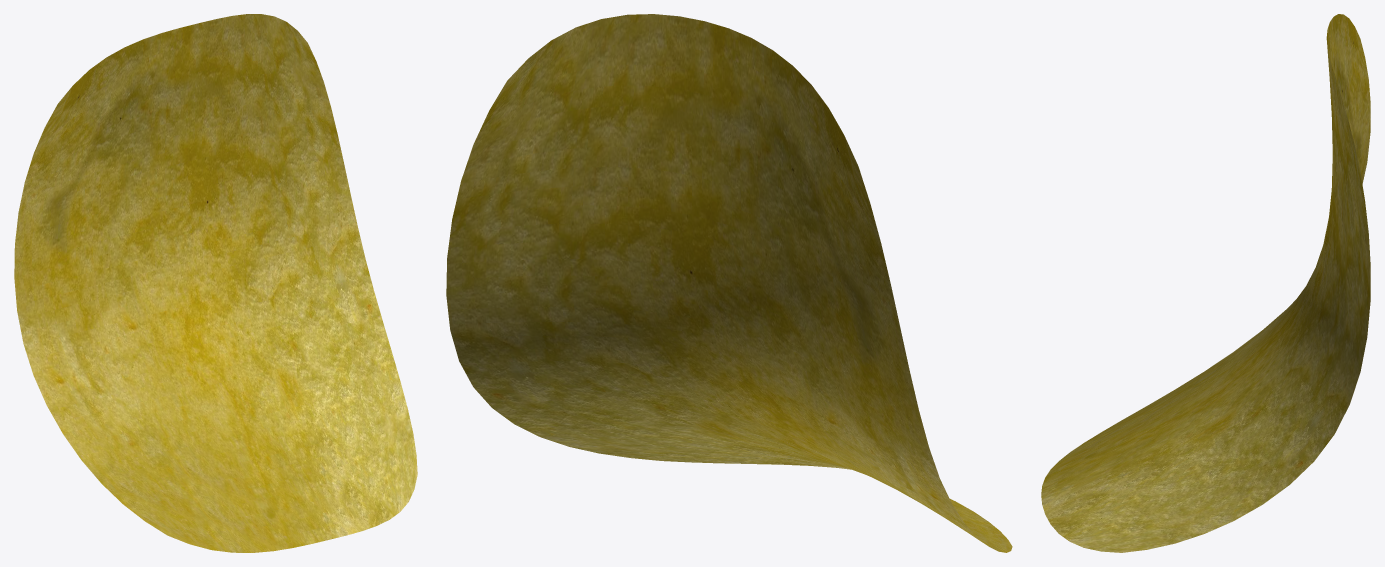
File: chip.gltf
The picture shows the model from 3 angles, left to right: view 1: azimuth 30°, elevation 25°; view 2: azimuth 150°, elevation 25°; view 3: azimuth 270°, elevation 25°; orthographic projection. The views are drawn at different scales.
Visible parts, largest first — view 1: Plane; view 2: Plane; view 3: Plane.
Part boxes in pixels (<box>): Plane: <box>14,14,417,552</box>; Plane: <box>446,14,1012,552</box>; Plane: <box>1041,14,1370,552</box>.
Size of the model in its own units: 2.65 by 3.12 by 2.03.
1 material, 1 textured.
